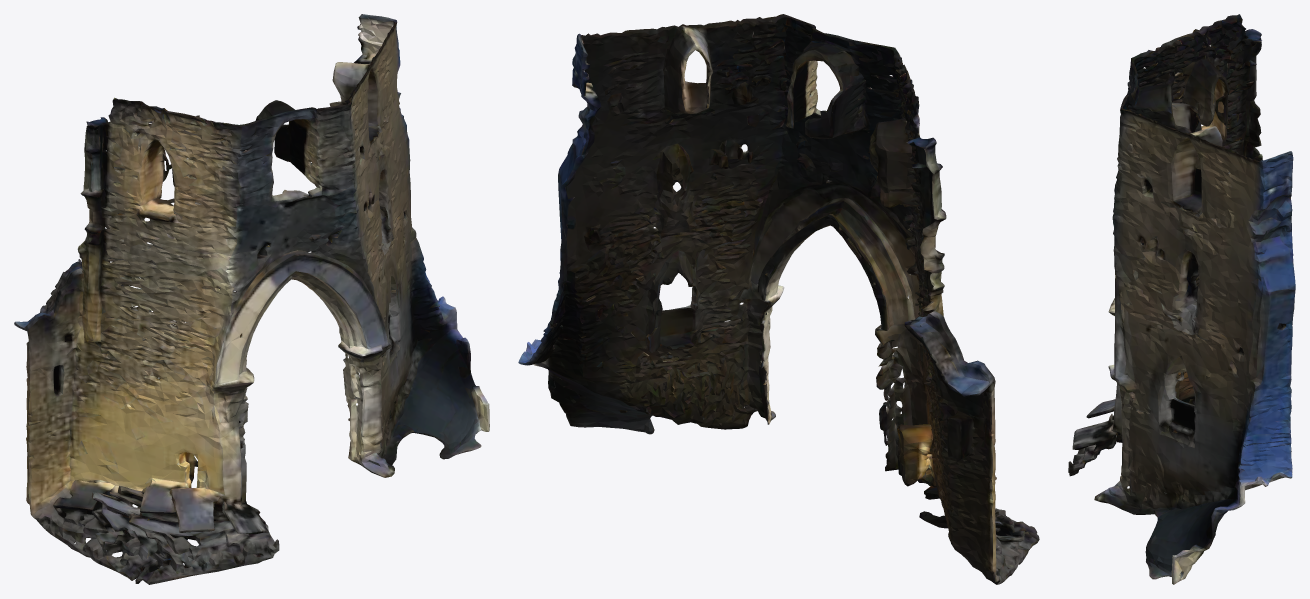
File: war_tower_ruin_01.glb
3 renders of one model, left to right at view 1: azimuth 30°, elevation 25°; view 2: azimuth 150°, elevation 25°; view 3: azimuth 270°, elevation 25°, orthographic. The views are drawn at different scales.
Visible parts, largest first — view 1: geometry_0; view 2: geometry_0; view 3: geometry_0.
Part boxes in pixels (<box>): geometry_0: <box>14,14,489,584</box>; geometry_0: <box>518,14,1039,584</box>; geometry_0: <box>1068,14,1295,584</box>.
Size of the model in its own units: 1 by 0.9751 by 0.4588.
1 material, 1 textured.
